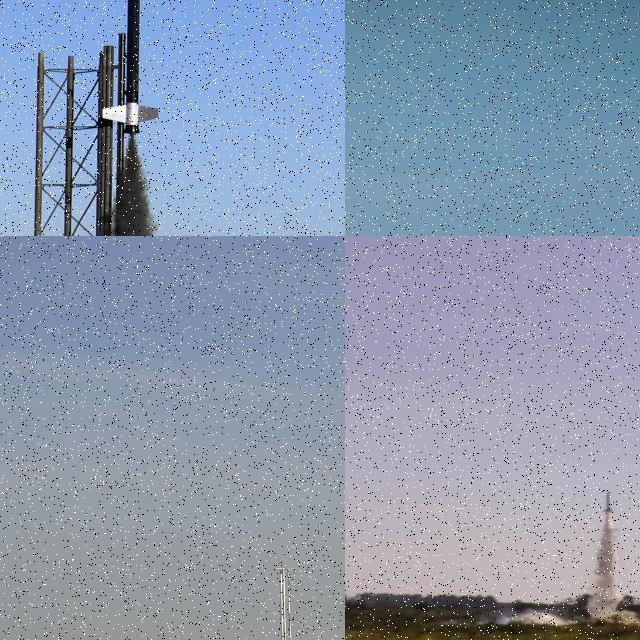Rocket: (99, 0, 160, 135), (603, 492, 614, 512)
